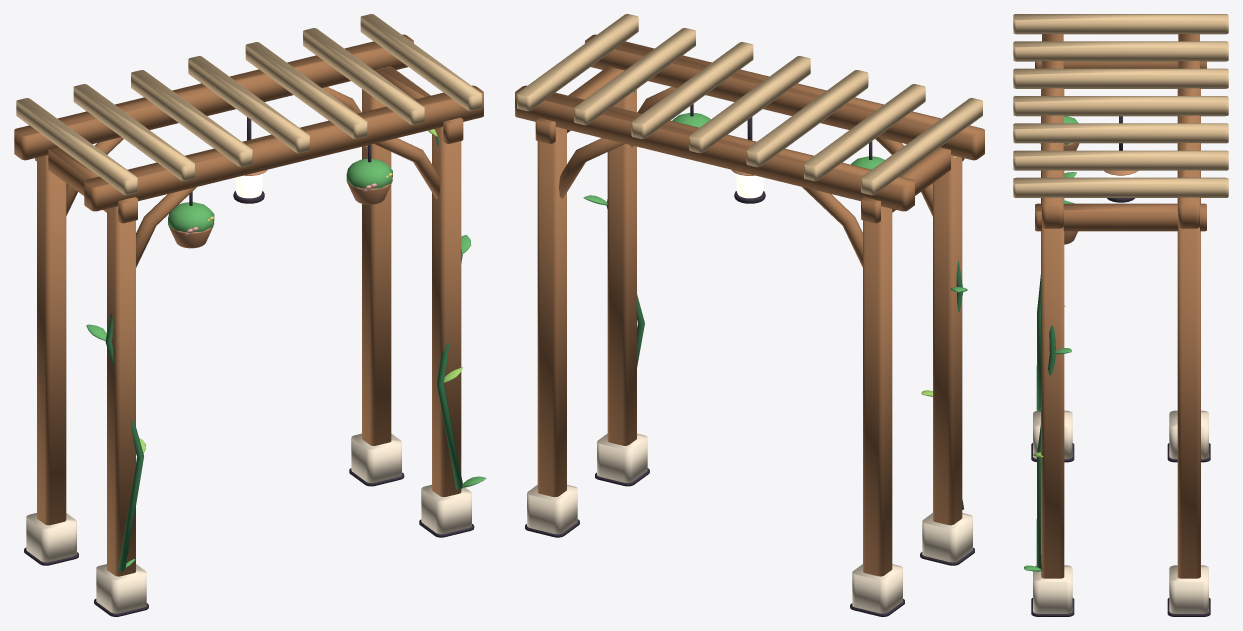
Rendered from schoolyard-gazebo-arch.glb.
The picture shows the model from 3 angles, left to right: view 1: azimuth 30°, elevation 25°; view 2: azimuth 150°, elevation 25°; view 3: azimuth 270°, elevation 25°; orthographic projection. The views are drawn at different scales.
Visible parts, largest first — view 1: YardPergolaArch_WoodFrame, YardPergolaArch_WoodLightRafters, YardPergolaArch_CreamPlinths, YardPergolaArch_LeafGreenFoliage, YardPergolaArch_DeepGreenVines, YardPergolaArch_SlateHardware, YardPergolaArch_TerracottaBaskets; view 2: YardPergolaArch_WoodFrame, YardPergolaArch_WoodLightRafters, YardPergolaArch_CreamPlinths, YardPergolaArch_SlateHardware, YardPergolaArch_LeafGreenFoliage; view 3: YardPergolaArch_WoodLightRafters, YardPergolaArch_WoodFrame, YardPergolaArch_CreamPlinths, YardPergolaArch_DeepGreenVines, YardPergolaArch_SlateHardware, YardPergolaArch_TerracottaBaskets, YardPergolaArch_LeafGreenFoliage.
Boxes of the visible parts, box(x1,y1,x2,y2) form: YardPergolaArch_WoodFrame: box(14, 34, 483, 576); YardPergolaArch_WoodLightRafters: box(16, 14, 481, 195); YardPergolaArch_CreamPlinths: box(26, 433, 471, 613); YardPergolaArch_LeafGreenFoliage: box(86, 158, 486, 567); YardPergolaArch_DeepGreenVines: box(105, 137, 462, 571); YardPergolaArch_SlateHardware: box(24, 117, 474, 616); YardPergolaArch_TerracottaBaskets: box(168, 169, 392, 248); YardPergolaArch_WoodFrame: box(515, 34, 984, 576); YardPergolaArch_WoodLightRafters: box(517, 14, 982, 195); YardPergolaArch_CreamPlinths: box(527, 433, 972, 613); YardPergolaArch_SlateHardware: box(525, 104, 974, 616); YardPergolaArch_LeafGreenFoliage: box(583, 113, 967, 292); YardPergolaArch_WoodLightRafters: box(1013, 14, 1228, 197); YardPergolaArch_WoodFrame: box(1035, 34, 1206, 578); YardPergolaArch_CreamPlinths: box(1033, 410, 1208, 613); YardPergolaArch_DeepGreenVines: box(1036, 275, 1055, 570); YardPergolaArch_SlateHardware: box(1031, 116, 1210, 616); YardPergolaArch_TerracottaBaskets: box(1040, 143, 1137, 244); YardPergolaArch_LeafGreenFoliage: box(1024, 116, 1078, 571).
Size of the model in its own units: 2.46 by 2.65 by 1.2.
